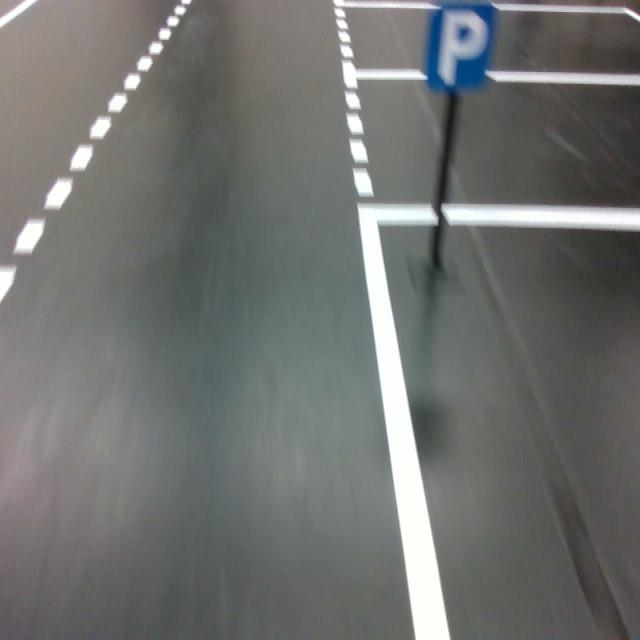parking-sign: (423, 1, 498, 95)
